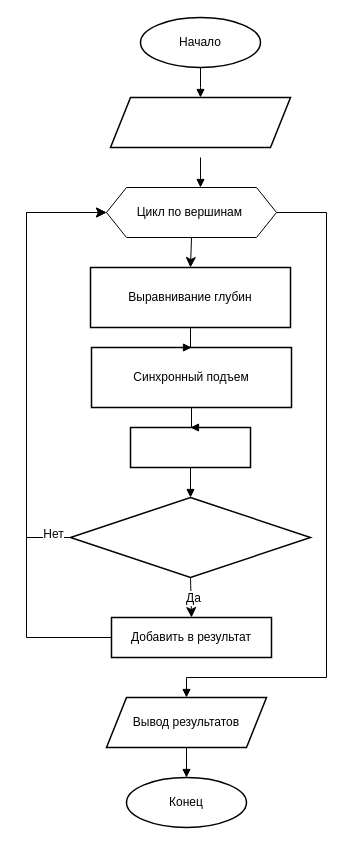
Image size: 352x846. Some labels were removed from this diagram. Here are the shapes that lost their labels. From the top down, the centre of each, then its label:
At pixel 200 122: "Получение параметров".
At pixel 190 447: "LCA найден".
At pixel 190 537: "Достигнута необходимая глубина?".
